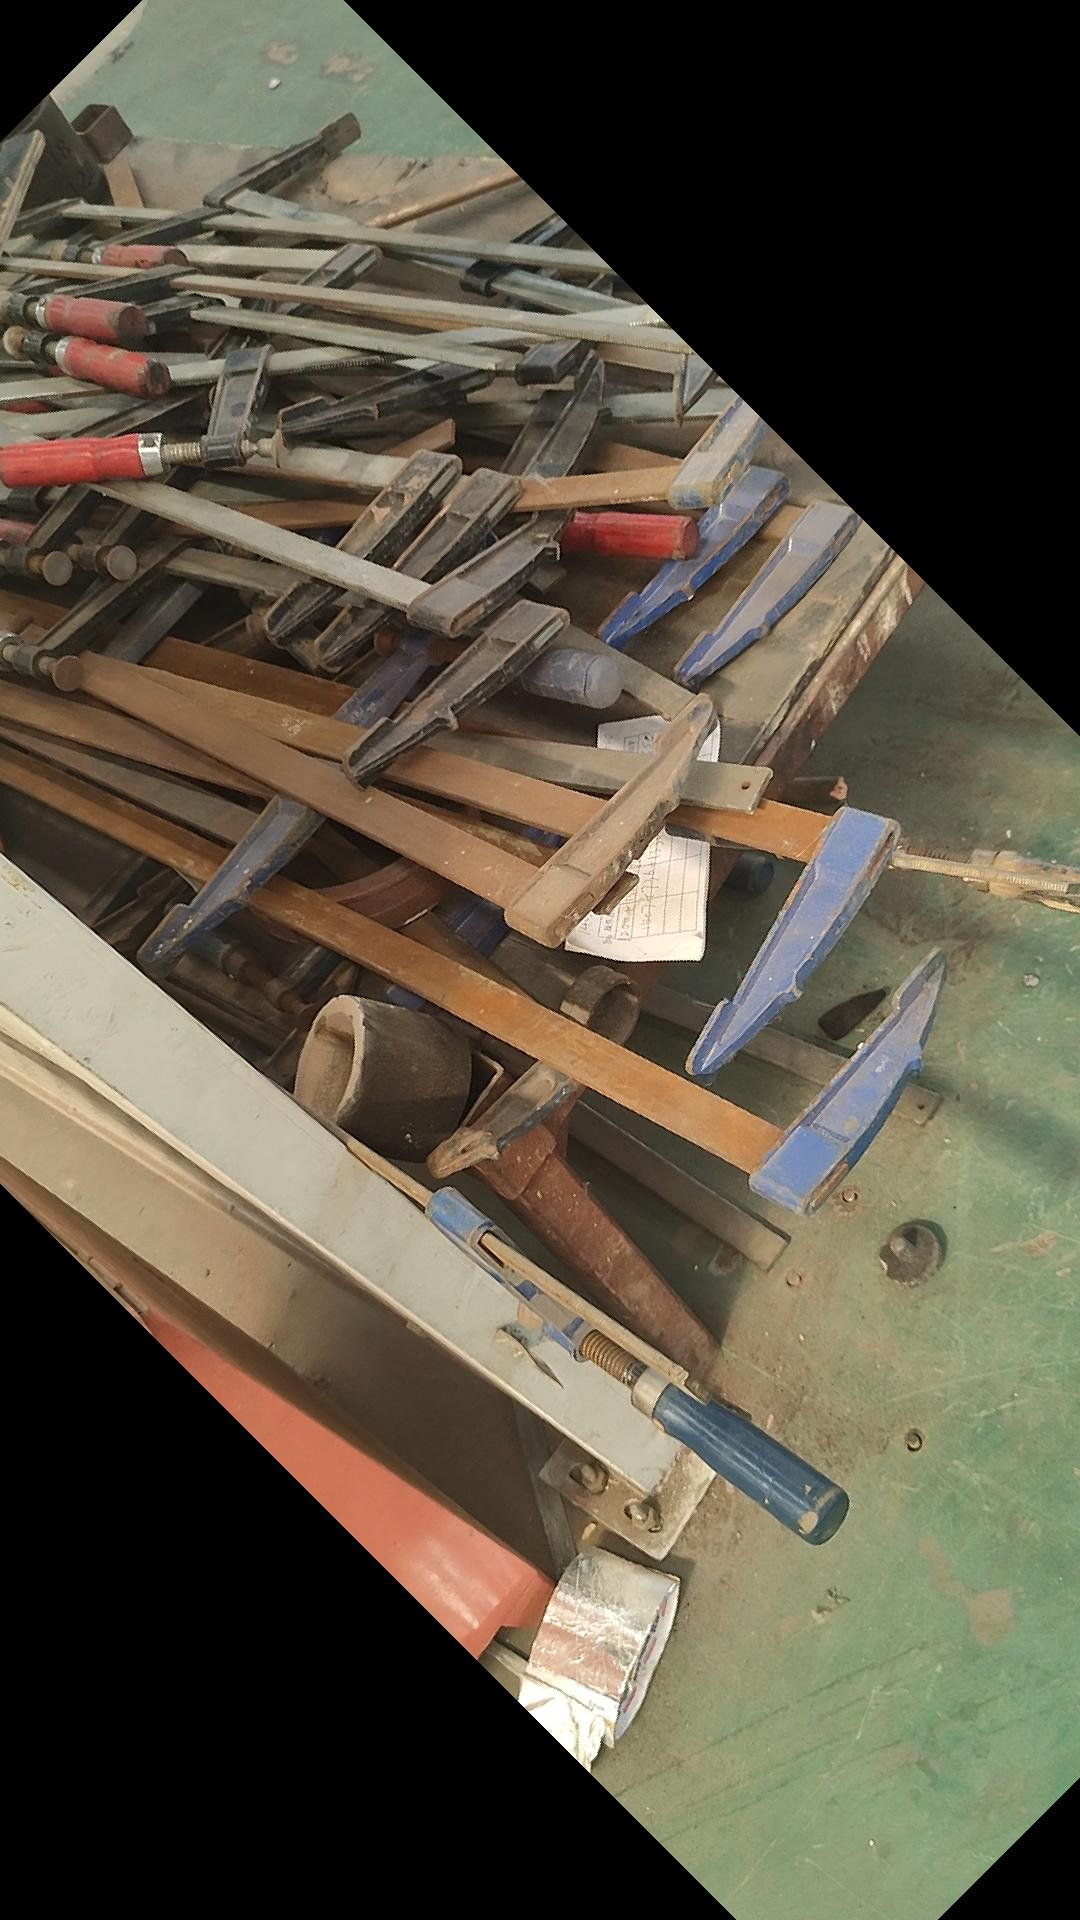pouring hole: (1, 82, 47, 146)
